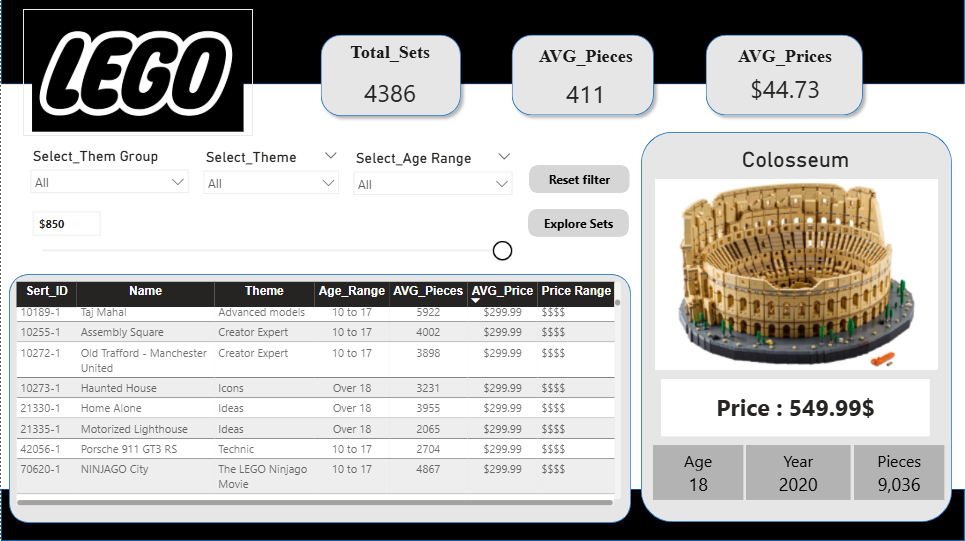

The dashboard page shown, as its layout file describes it:
{"tool":"powerbi","page":{"name":"Sets_Dashboard","canvas":[1280,720],"ordinal":0},"visuals":[{"type":"shape","box":[0,651,1280,68.8],"z":0},{"type":"shape","box":[0,0,1280,113.3],"z":1000},{"type":"shape","box":[926.7,39,226.7,125],"z":2000},{"type":"shape","box":[670,39,206.7,125],"z":3000},{"type":"shape","box":[416,38,204,126],"z":4000},{"type":"image","box":[29.3,13.2,305.9,168.3],"z":5000},{"type":"card","title":"Total_Sets","fields":{"Values":["Calculation.TotalSets"]},"box":[414.1,57.2,204.9,109.8],"z":6000},{"type":"card","title":"AVG_Pieces","fields":{"Values":["Calculation.AVG_Pieces"]},"box":[686.2,57.3,179.9,108.3],"z":7000},{"type":"card","title":"AVG_Prices","fields":{"Values":["Calculation.AVG_Price"]},"box":[952,57.3,178.3,93.9],"z":8000},{"type":"shape","box":[10.6,365.3,826.3,330.8],"z":9000},{"type":"shape","box":[850.2,176.7,413.1,518.1],"z":10000},{"type":"slicer","fields":{"Values":["lego_sets.themeGroup"]},"box":[29.3,193.2,229.8,65.9],"z":11000},{"type":"slicer","fields":{"Values":["lego_sets.theme"]},"box":[258.8,193.8,200,65],"z":12000},{"type":"slicer","fields":{"Values":["lego_sets.Age_Range "]},"box":[458.8,195,231.2,65],"z":13000},{"type":"tableEx","fields":{"Values":["lego_sets.set_id","lego_sets.name","lego_sets.theme","lego_sets.Age_Range ","Calculation.AVG_Pieces","Calculation.AVG_Price","lego_sets.Price Range"]},"box":[14.6,370.6,814.3,308.2],"z":14000},{"type":"simpleImageEBC4593F96F1425FB3D84C5BF02B5075","fields":{"imageURL":["lego_sets.imageURL"]},"box":[868.8,239.1,375.9,253.7],"z":15000},{"type":"card","fields":{"Values":["Calculation.slected name"]},"box":[866.3,181.5,379,57.1],"z":16000},{"type":"card","title":"Year","fields":{"Values":["Calculation.Set dynamic year"]},"box":[990,592.7,139,73.2],"z":17000},{"type":"card","title":"Pieces","fields":{"Values":["Calculation.set dynamic pieces"]},"box":[1132.7,592.7,120,73.2],"z":18000},{"type":"card","fields":{"Values":["Calculation.Set dynamic price"]},"box":[876.8,504.8,357.3,75.7],"z":19000},{"type":"card","title":"Age","fields":{"Values":["Calculation.Select dynamic age"]},"box":[866.3,592.7,120,73.2],"z":20000},{"type":"slicer","fields":{"Values":["Max price.Max price"]},"box":[29.2,272.3,657.6,87.7],"z":21000},{"type":"actionButton","box":[701.2,220,133.8,37.5],"z":22000},{"type":"actionButton","box":[700.1,279,134.2,37.2],"z":23000}]}

Visuals, with their boxes in screenshot pixels (x1, y1, x2, y2), scaled from the page's 1280x720 canvas onto the 965x541 screenshot:
shape: (x1=0, y1=489, x2=964, y2=540)
shape: (x1=0, y1=0, x2=964, y2=85)
shape: (x1=699, y1=29, x2=870, y2=123)
shape: (x1=505, y1=29, x2=661, y2=123)
shape: (x1=314, y1=29, x2=467, y2=123)
image: (x1=22, y1=10, x2=253, y2=136)
"Total_Sets" card: (x1=312, y1=43, x2=467, y2=125)
"AVG_Pieces" card: (x1=517, y1=43, x2=653, y2=124)
"AVG_Prices" card: (x1=718, y1=43, x2=852, y2=114)
shape: (x1=8, y1=274, x2=631, y2=523)
shape: (x1=641, y1=133, x2=952, y2=522)
slicer - lego_sets.themeGroup: (x1=22, y1=145, x2=195, y2=195)
slicer - lego_sets.theme: (x1=195, y1=146, x2=346, y2=194)
slicer - lego_sets.Age_Range : (x1=346, y1=147, x2=520, y2=195)
tableEx - lego_sets.set_id x lego_sets.name: (x1=11, y1=278, x2=625, y2=510)
simpleImageEBC4593F96F1425FB3D84C5BF02B5075 - lego_sets.imageURL: (x1=655, y1=180, x2=938, y2=370)
card - Calculation.slected name: (x1=653, y1=136, x2=939, y2=179)
"Year" card: (x1=746, y1=445, x2=851, y2=500)
"Pieces" card: (x1=854, y1=445, x2=944, y2=500)
card - Calculation.Set dynamic price: (x1=661, y1=379, x2=930, y2=436)
"Age" card: (x1=653, y1=445, x2=744, y2=500)
slicer - Max price.Max price: (x1=22, y1=205, x2=518, y2=270)
actionButton: (x1=529, y1=165, x2=630, y2=193)
actionButton: (x1=528, y1=210, x2=629, y2=238)
